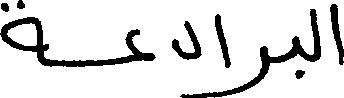X: (0, 0, 44, 70), (172, 16, 199, 97), (215, 9, 231, 97), (127, 24, 156, 67), (245, 41, 267, 94), (330, 0, 343, 69), (310, 4, 319, 66), (293, 31, 299, 83)
